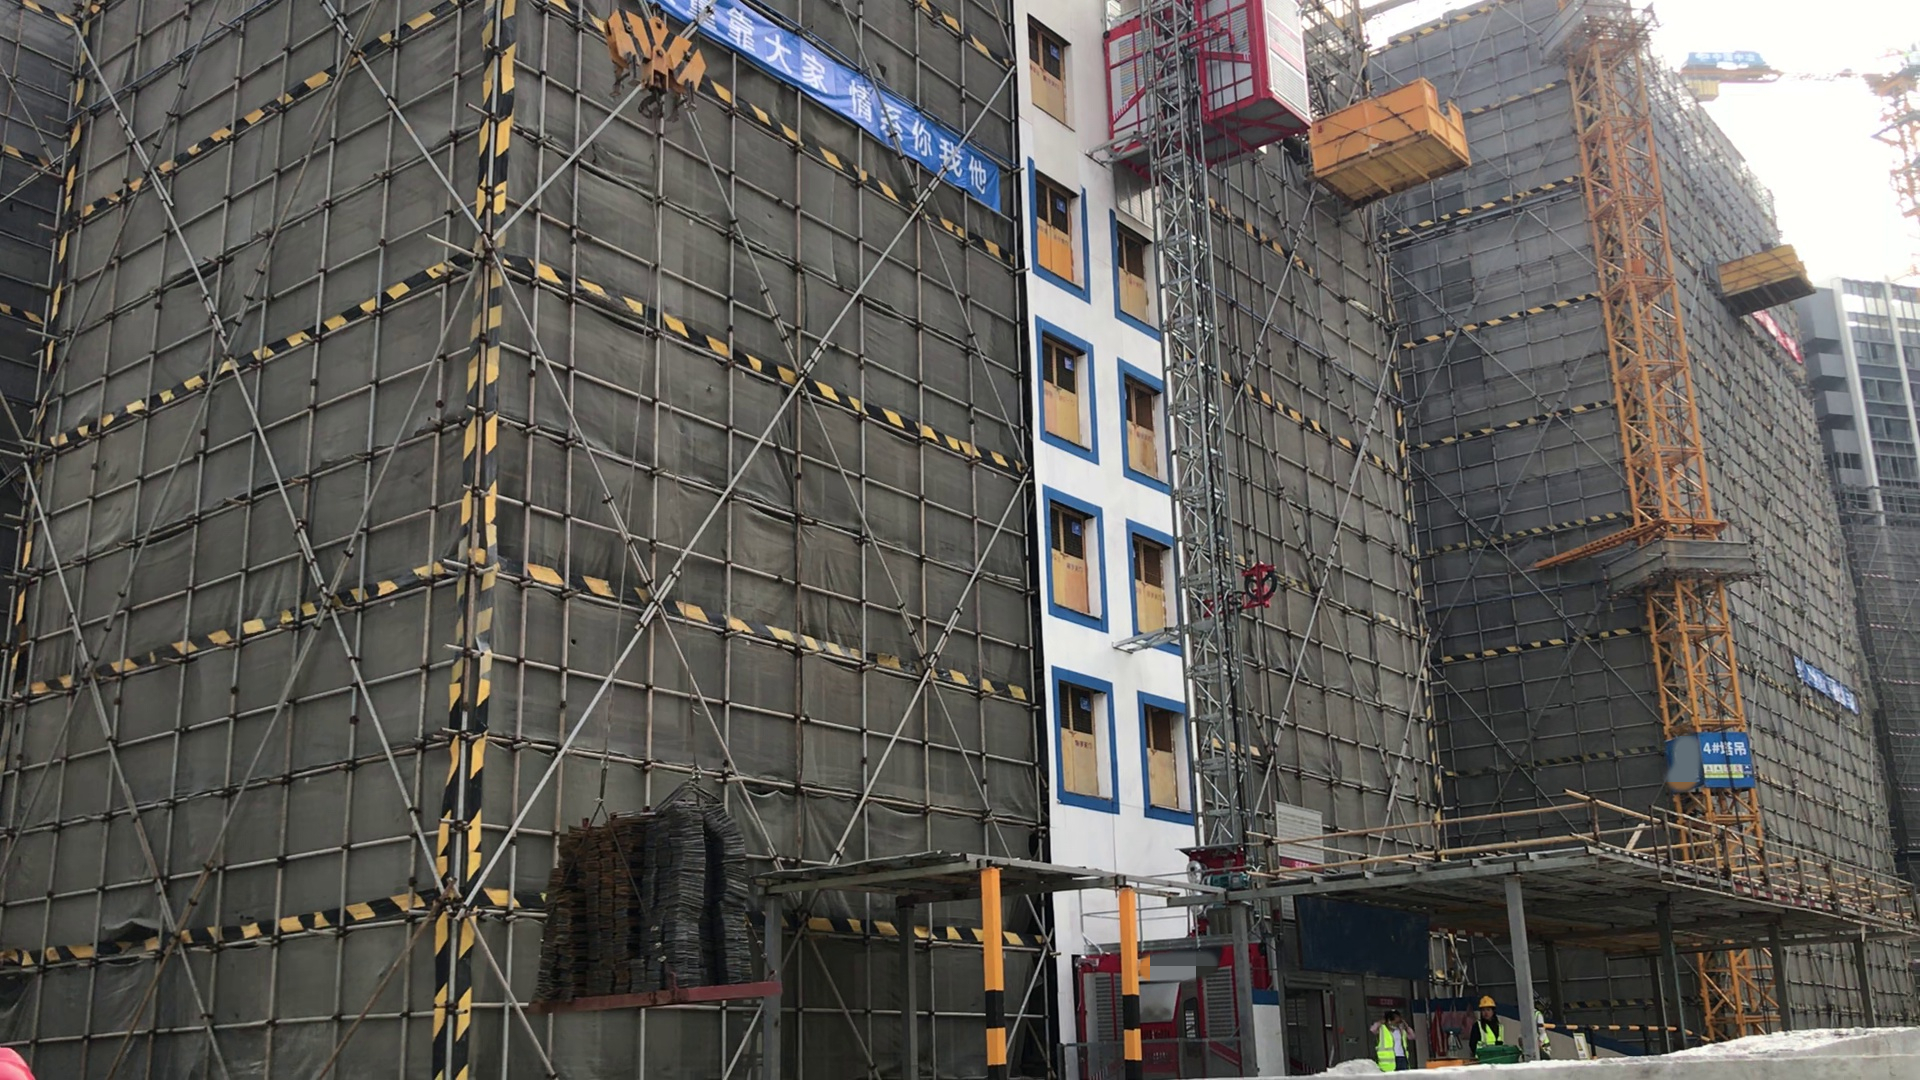helmet: (1477, 996, 1496, 1009)
hook: (592, 5, 712, 134)
person: (1367, 1005, 1420, 1078), (1462, 990, 1508, 1053)
slogan: (715, 1, 1004, 213), (1788, 651, 1869, 721), (1688, 732, 1755, 795)
vest: (1377, 1020, 1410, 1075), (1477, 1022, 1506, 1047)
